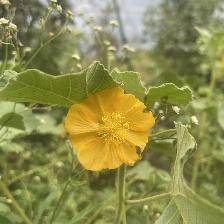indian mallow: (66, 87, 157, 173)
